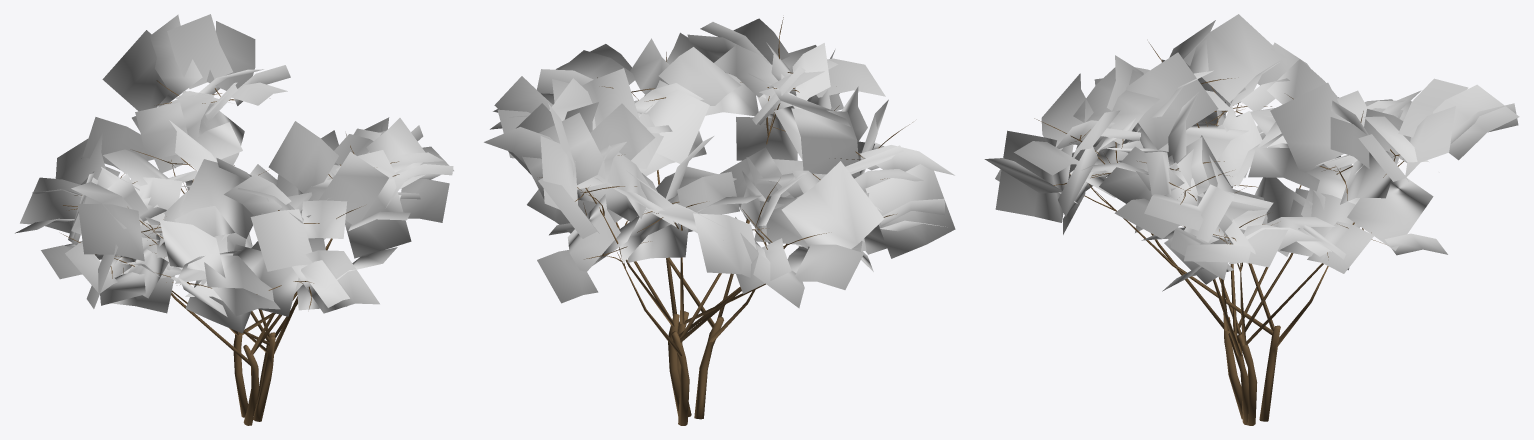
File: V7_Myrte_0_Niveau2.fbx
3 renders of one model, left to right at view 1: azimuth 30°, elevation 25°; view 2: azimuth 150°, elevation 25°; view 3: azimuth 270°, elevation 25°, orthographic. The views are drawn at different scales.
Parts seen in each view (by area): view 1: V7_Myrte_0_Detail2; view 2: V7_Myrte_0_Detail2; view 3: V7_Myrte_0_Detail2.
Part boxes in pixels (left/top/right/bottom): V7_Myrte_0_Detail2: left=15, top=14, right=453, bottom=425; V7_Myrte_0_Detail2: left=484, top=17, right=955, bottom=425; V7_Myrte_0_Detail2: left=984, top=14, right=1519, bottom=425.
Bounding box in the file's own units: 236 × 193 × 256.
